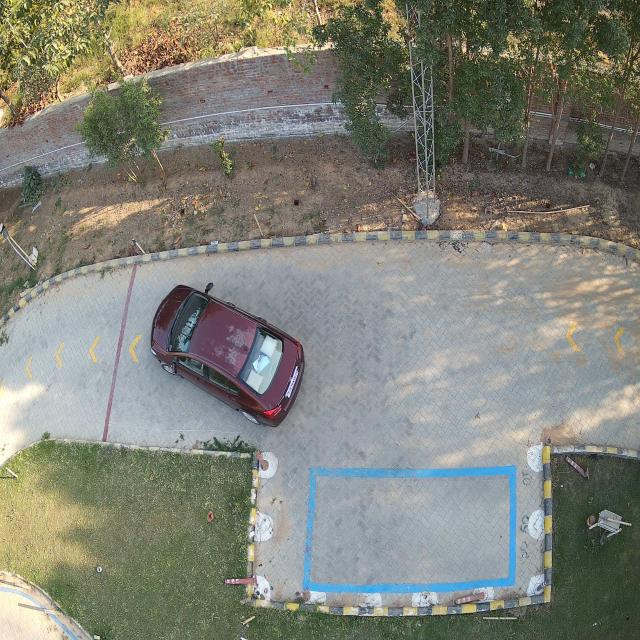car: (150, 286, 307, 428)
